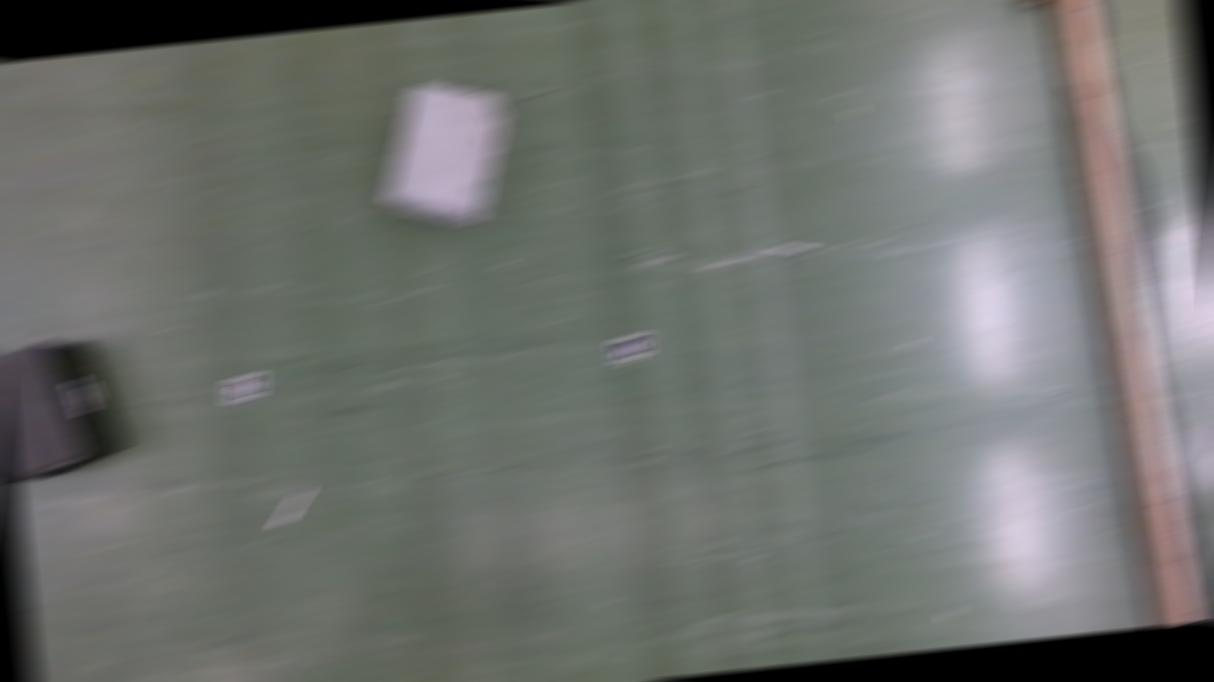probes: (270, 488, 312, 526), (768, 241, 812, 254)
rako: (370, 74, 516, 230), (0, 333, 131, 481)
